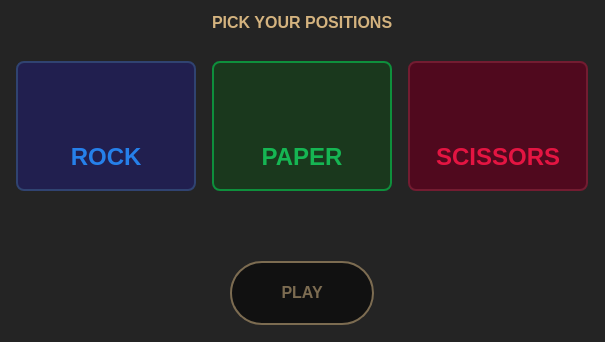
Test: GameScreen › starts in idle; betting after selecting a position; Play enables
The image size is (605, 342).
Expected: the button "Play" is disabled, [230,261,374,325]
Click the button "rock" at (106, 126), box [16,61,196,191]
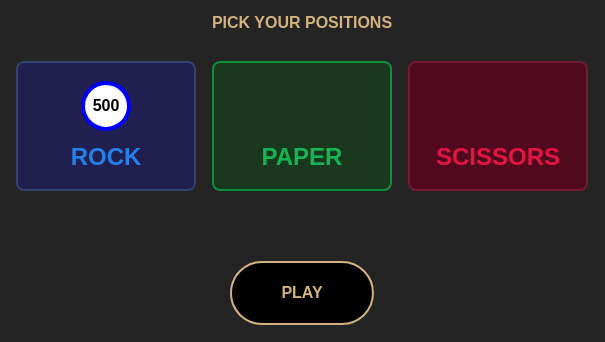
Expected: the button "Play" is enabled, [230,261,374,325]
